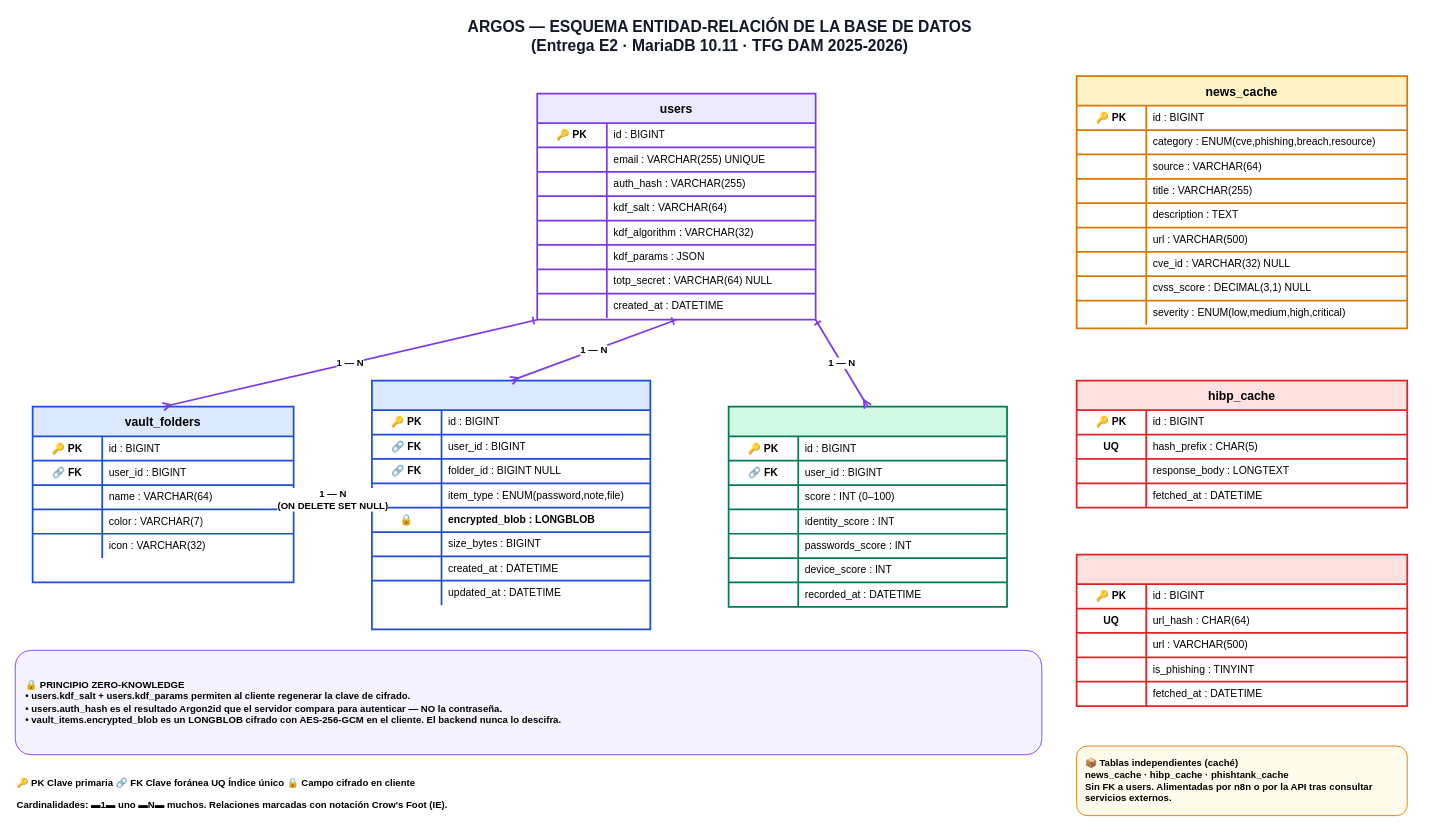
This 1440x831 diagram has some shape labels left out. Each missing label, with the box of its shape:
phishtank_cache: (1075, 553, 1408, 706)
privacy_score_history: (727, 405, 1007, 607)
vault_items: (371, 379, 651, 630)
